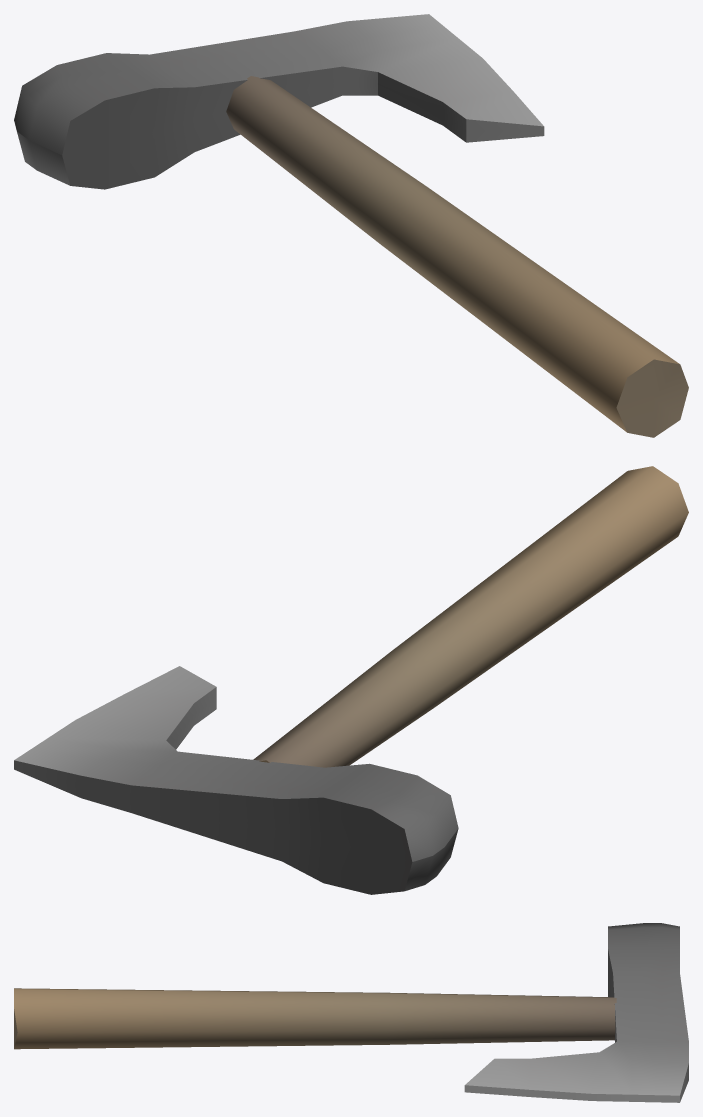
Rendered from human-tools-axe_v1.glb.
3 renders of one model, top to bottom at view 1: azimuth 30°, elevation 25°; view 2: azimuth 150°, elevation 25°; view 3: azimuth 270°, elevation 25°, orthographic. The views are drawn at different scales.
Parts seen in each view (by area): view 1: Axe, Axe.001; view 2: Axe, Axe.001; view 3: Axe.001, Axe.
Boxes of the visible parts, box(x1,y1,x2,y2) form: Axe: box(14, 14, 544, 189); Axe.001: box(226, 76, 688, 437); Axe: box(14, 666, 458, 894); Axe.001: box(253, 466, 688, 767); Axe.001: box(14, 988, 616, 1049); Axe: box(464, 923, 688, 1102).
Size of the model in its own units: 0.38 by 0.0763 by 0.7.
